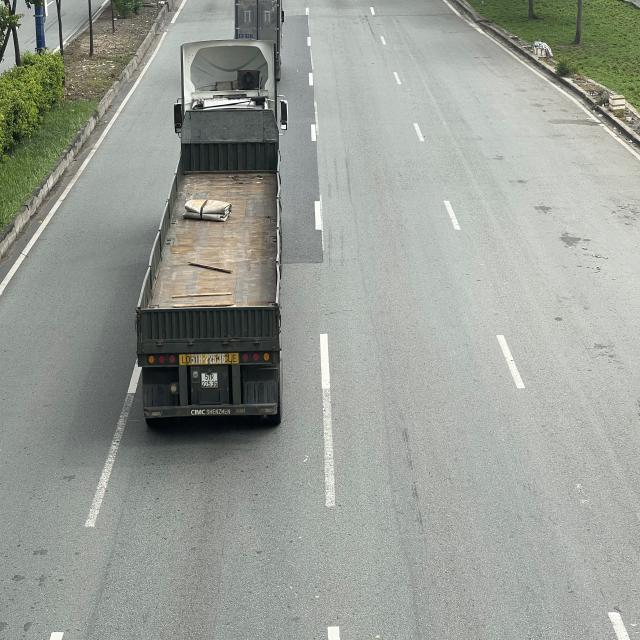container: (135, 38, 290, 425)
